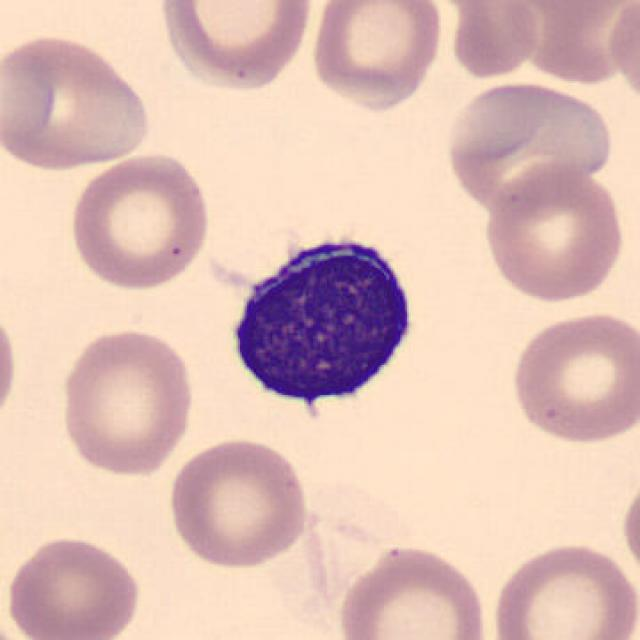Lymphocyte: (217, 222, 428, 429)
RBC: (441, 75, 617, 218), (0, 28, 155, 175), (55, 324, 199, 478), (478, 160, 630, 305), (66, 148, 213, 293), (163, 434, 314, 571), (505, 308, 638, 448), (308, 0, 446, 115), (332, 541, 492, 640), (487, 537, 638, 640), (155, 0, 318, 95), (4, 532, 146, 640), (505, 0, 640, 90), (444, 0, 544, 81), (604, 0, 640, 113), (0, 299, 21, 435), (618, 469, 640, 587)
